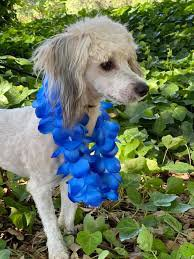dog: (11, 13, 150, 178)
